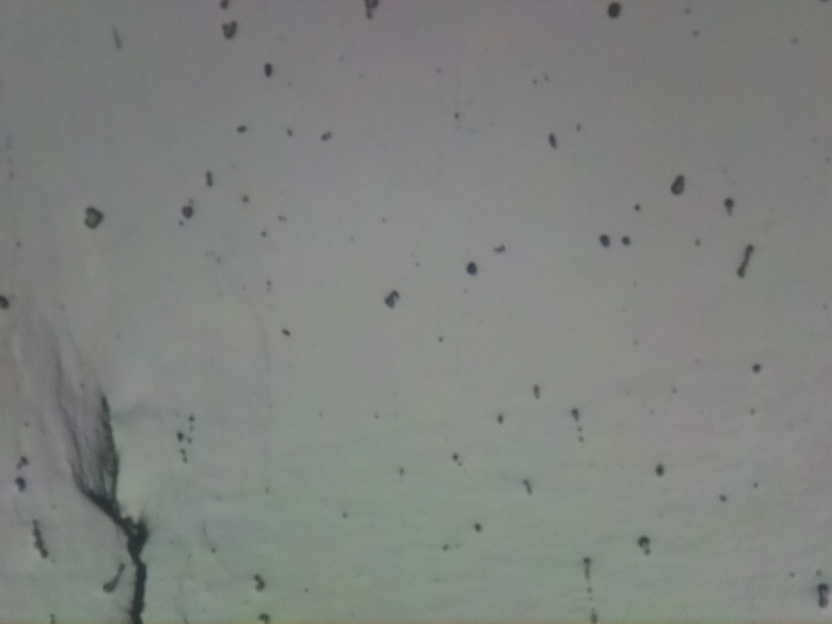crack: (72, 403, 152, 624)
